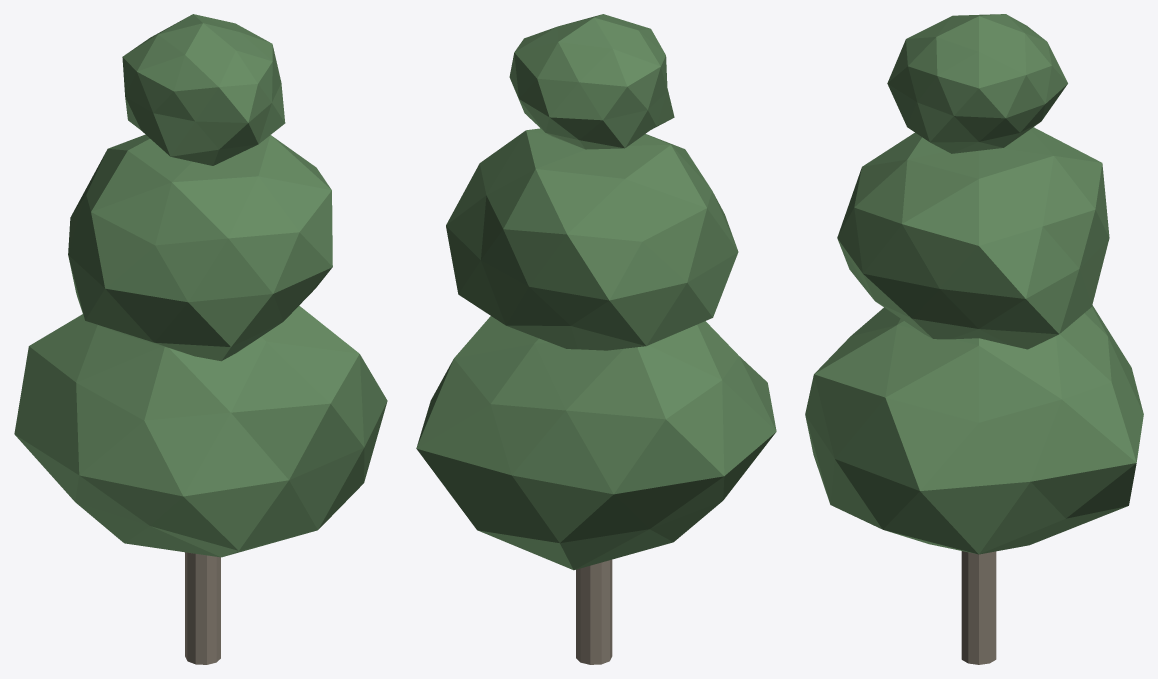
File: a4_tree.glb
3 renders of one model, left to right at view 1: azimuth 30°, elevation 25°; view 2: azimuth 150°, elevation 25°; view 3: azimuth 270°, elevation 25°, orthographic.
Visible parts, largest first — view 1: Body.039; view 2: Body.039; view 3: Body.039.
Part boxes in pixels (left/top/right/bottom): Body.039: left=14, top=14, right=387, bottom=664; Body.039: left=416, top=14, right=776, bottom=664; Body.039: left=805, top=14, right=1143, bottom=664.
Size of the model in its own units: 1.51 by 2.91 by 1.39.
